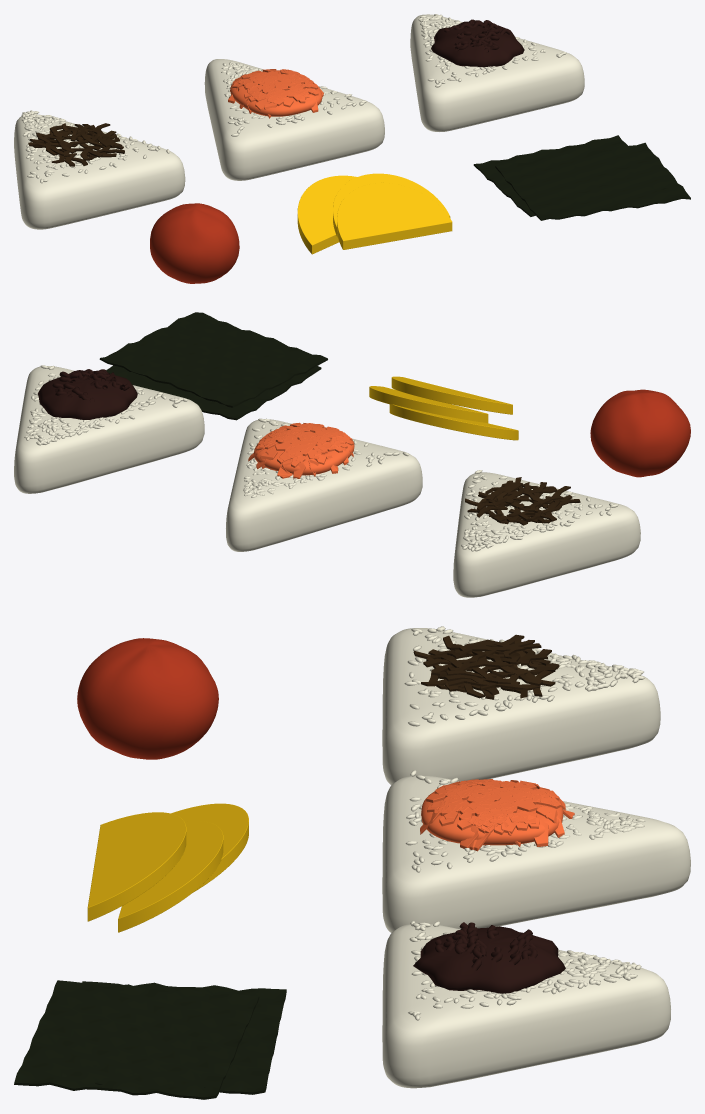
File: asset.glb
3 renders of one model, top to bottom at view 1: azimuth 30°, elevation 25°; view 2: azimuth 150°, elevation 25°; view 3: azimuth 270°, elevation 25°, orthographic. The views are drawn at different scales.
Visible parts, largest first — view 1: Salmon rice ball_export, Kombu rice ball_export, Umeboshi rice ball_export, Nori sheet 2_export, Whole umeboshi_export, Daikon slice 3_export, Daikon slice 1_export, Umeboshi paste mound_export, Nori sheet 1_export, Rice grain accents 0_export, Rice grain accents 2_export, Daikon slice 2_export (+2 smaller); view 2: Salmon rice ball_export, Kombu rice ball_export, Umeboshi rice ball_export, Nori sheet 2_export, Whole umeboshi_export, Umeboshi paste mound_export, Nori sheet 1_export, Rice grain accents 0_export, Rice grain accents 2_export, Daikon slice 3_export, Daikon slice 2_export, Daikon slice 1_export (+2 smaller); view 3: Salmon rice ball_export, Umeboshi rice ball_export, Kombu rice ball_export, Nori sheet 2_export, Whole umeboshi_export, Daikon slice 3_export, Umeboshi paste mound_export, Nori sheet 1_export, Daikon slice 2_export, Rice grain accents 0_export, Rice grain accents 2_export, Rice grain accents 1_export (+2 smaller).
Part boxes in pixels (box(x1,y1,x2,y2)): Salmon rice ball_export: box(204, 59, 384, 180); Kombu rice ball_export: box(14, 114, 185, 229); Umeboshi rice ball_export: box(410, 14, 584, 131); Nori sheet 2_export: box(495, 142, 690, 220); Whole umeboshi_export: box(150, 203, 239, 283); Daikon slice 3_export: box(337, 182, 452, 249); Daikon slice 1_export: box(297, 175, 356, 254); Umeboshi paste mound_export: box(431, 21, 524, 67); Nori sheet 1_export: box(473, 135, 666, 216); Rice grain accents 0_export: box(21, 110, 169, 183); Rice grain accents 2_export: box(418, 14, 566, 87); Daikon slice 2_export: box(333, 173, 450, 237); Salmon rice ball_export: box(226, 419, 422, 551); Kombu rice ball_export: box(453, 472, 640, 597); Umeboshi rice ball_export: box(14, 366, 204, 493); Nori sheet 2_export: box(99, 312, 327, 407); Whole umeboshi_export: box(590, 389, 690, 477); Umeboshi paste mound_export: box(37, 370, 137, 419); Nori sheet 1_export: box(106, 326, 321, 420); Rice grain accents 0_export: box(461, 470, 618, 551); Rice grain accents 2_export: box(24, 365, 187, 445); Daikon slice 3_export: box(391, 376, 512, 414); Daikon slice 2_export: box(369, 386, 488, 423); Daikon slice 1_export: box(389, 404, 518, 440); Salmon rice ball_export: box(382, 776, 690, 932); Umeboshi rice ball_export: box(382, 924, 670, 1088); Kombu rice ball_export: box(382, 628, 660, 785); Nori sheet 2_export: box(14, 980, 259, 1099); Whole umeboshi_export: box(77, 638, 218, 759); Daikon slice 3_export: box(87, 812, 186, 921); Umeboshi paste mound_export: box(413, 926, 565, 993); Nori sheet 1_export: box(62, 981, 286, 1094); Daikon slice 2_export: box(118, 821, 223, 932); Rice grain accents 0_export: box(404, 626, 644, 726); Rice grain accents 2_export: box(408, 920, 641, 1020); Rice grain accents 1_export: box(405, 770, 645, 872).
Size of the model in its own units: 3.43 by 0.428 by 2.38.
